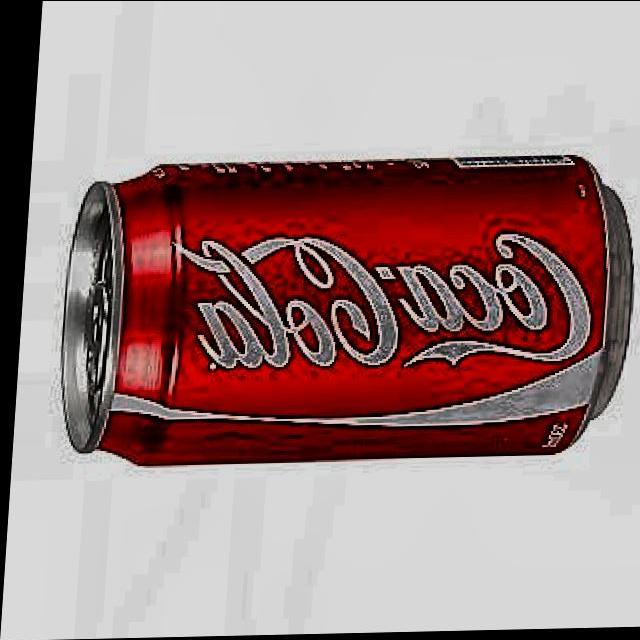Aluminum Can: (42, 146, 640, 473)
